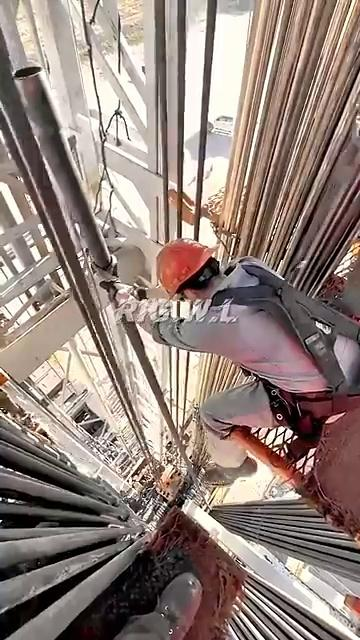gloves: (92, 250, 137, 302)
helmet: (157, 227, 215, 298)
shoes: (203, 433, 257, 503)
worker: (67, 218, 352, 560)
